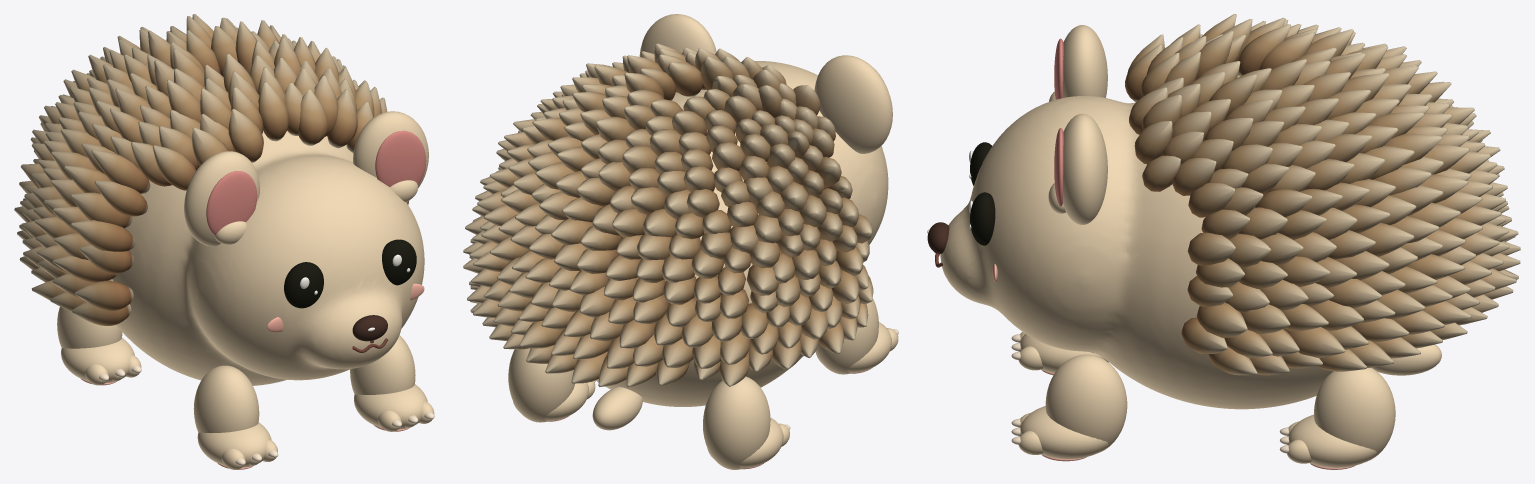
Rendered from hedgehog-stage-06.glb.
3 renders of one model, left to right at view 1: azimuth 30°, elevation 25°; view 2: azimuth 150°, elevation 25°; view 3: azimuth 270°, elevation 25°, orthographic. The views are drawn at different scales.
Visible parts, largest first — view 1: S06 • 284 individually formed rounded quills, S06 • seamless sculpted body and face, S06 • L front leg, S06 • L ear • outer rim, S06 • R front leg, S06 • L ear • recessed inner bowl, S06 • R ear • recessed inner bowl, S06 • R ear • outer rim, S06 • L rear paw, S06 • L front paw, S06 • R front paw, S06 • L rear leg (+4 smaller); view 2: S06 • 284 individually formed rounded quills, S06 • seamless sculpted body and face, S06 • L ear • outer rim, S06 • L rear leg, S06 • R rear leg, S06 • R ear • outer rim, S06 • L front leg, S06 • small tail, S06 • L rear paw, S06 • L front paw, S06 • R rear paw; view 3: S06 • 284 individually formed rounded quills, S06 • seamless sculpted body and face, S06 • R front leg, S06 • R rear leg, S06 • R ear • outer rim, S06 • L ear • outer rim, S06 • R front paw, S06 • R rear paw, S06 • small tail, S06 • R glossy eye, S06 • L front paw, S06 • R ear • recessed inner bowl.
Boxes of the visible parts, <box> form: S06 • 284 individually formed rounded quills: <box>14,14,409,325</box>; S06 • seamless sculpted body and face: <box>112,131,424,385</box>; S06 • L front leg: <box>193,365,259,432</box>; S06 • L ear • outer rim: <box>184,151,259,246</box>; S06 • R front leg: <box>350,335,415,394</box>; S06 • L ear • recessed inner bowl: <box>206,171,257,235</box>; S06 • R ear • recessed inner bowl: <box>375,130,426,186</box>; S06 • R ear • outer rim: <box>353,111,428,187</box>; S06 • L rear paw: <box>61,338,134,383</box>; S06 • L front paw: <box>197,422,271,467</box>; S06 • R front paw: <box>354,384,427,429</box>; S06 • L rear leg: <box>57,306,122,348</box>; S06 • 284 individually formed rounded quills: <box>463,43,873,387</box>; S06 • seamless sculpted body and face: <box>596,61,888,406</box>; S06 • L ear • outer rim: <box>814,55,892,153</box>; S06 • L rear leg: <box>703,376,770,469</box>; S06 • R rear leg: <box>508,348,574,422</box>; S06 • R ear • outer rim: <box>639,14,716,56</box>; S06 • L front leg: <box>815,298,878,374</box>; S06 • small tail: <box>592,387,642,430</box>; S06 • L rear paw: <box>707,417,783,468</box>; S06 • L front paw: <box>816,322,891,372</box>; S06 • R rear paw: <box>513,383,588,420</box>; S06 • 284 individually formed rounded quills: <box>1125,14,1520,375</box>; S06 • seamless sculpted body and face: <box>940,75,1332,409</box>; S06 • R front leg: <box>1045,354,1127,453</box>; S06 • R rear leg: <box>1314,367,1395,461</box>; S06 • R ear • outer rim: <box>1063,113,1107,224</box>; S06 • L ear • outer rim: <box>1063,25,1107,97</box>; S06 • R front paw: <box>1020,406,1109,459</box>; S06 • R rear paw: <box>1288,414,1377,467</box>; S06 • small tail: <box>1372,344,1441,375</box>; S06 • R glossy eye: <box>970,192,995,245</box>; S06 • L front paw: <box>1020,333,1107,373</box>; S06 • R ear • recessed inner bowl: <box>1054,128,1063,206</box>.
Size of the model in its own units: 1.76 by 1.6 by 2.3.
